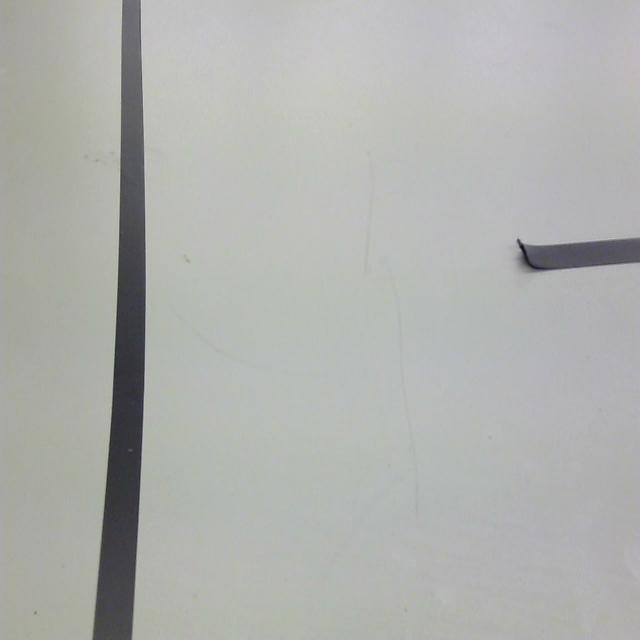tape: (74, 0, 165, 640), (487, 215, 640, 318)
